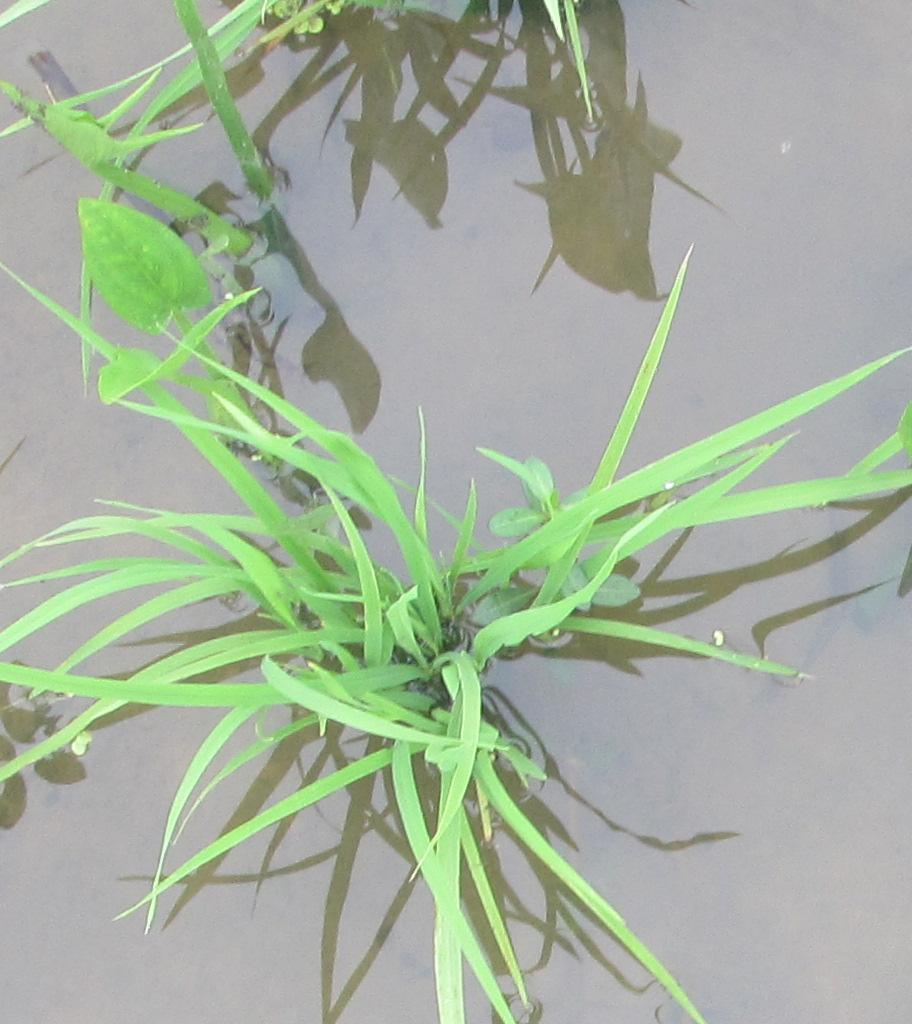Weed: (71, 197, 266, 402)
